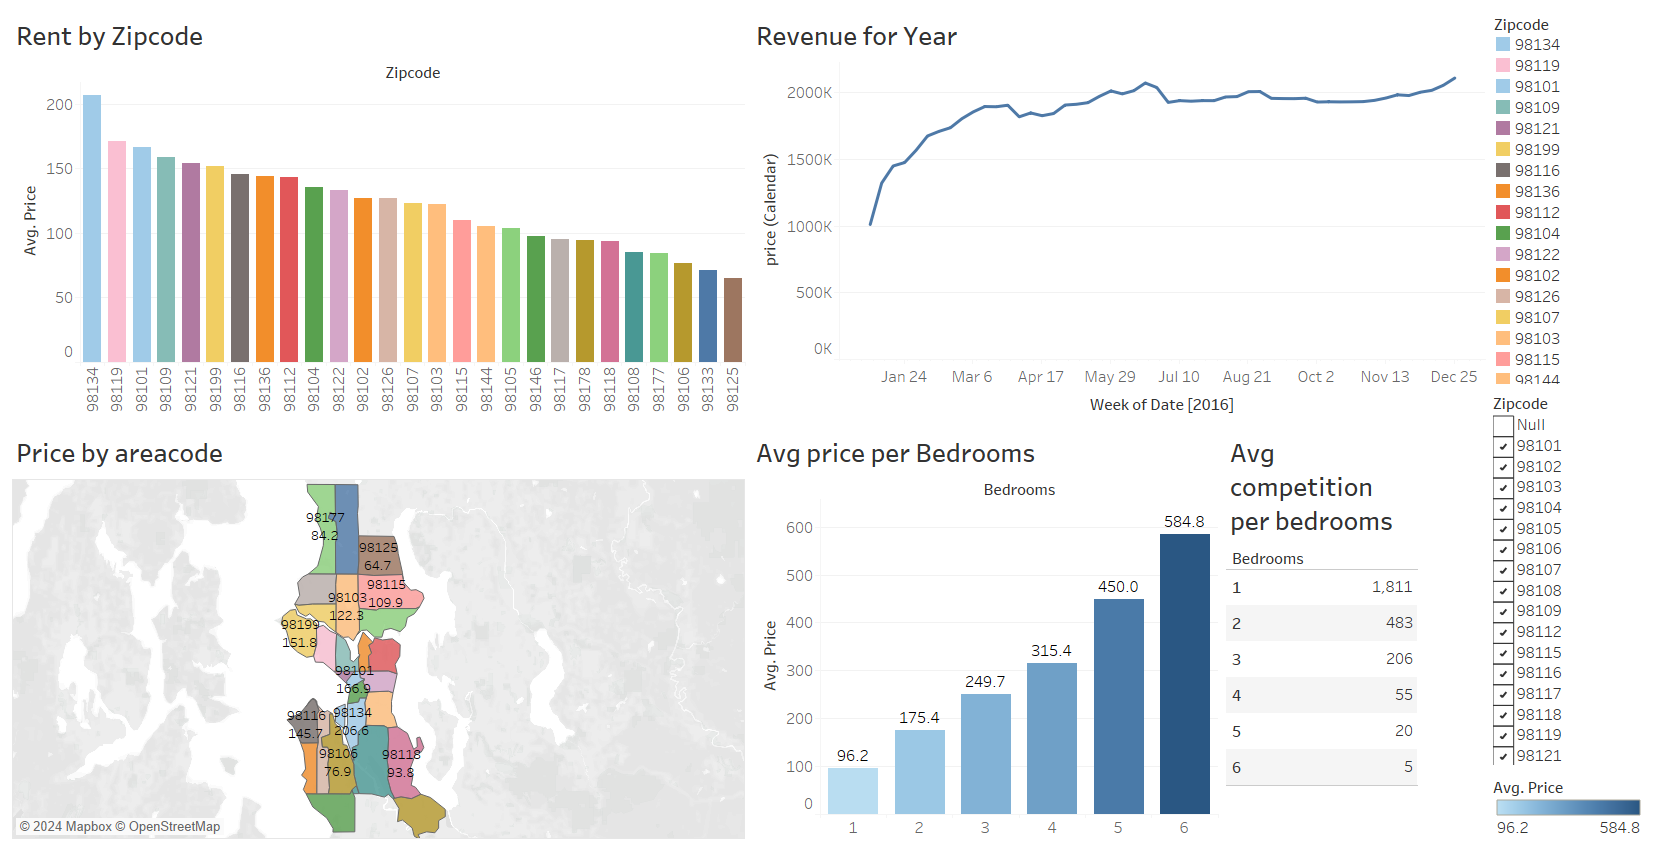

The dashboard page shown, as its layout file describes it:
{"tool":"tableau","page":{"name":"Dashboard 1","canvas":[1000,1000],"units":"permille","ordinal":0},"visuals":[{"type":"worksheet","title":"Sheet 1","mark":"Automatic","rows":["price"],"cols":["zipcode"],"box":[4.8,9.4,446.9,490.6]},{"type":"worksheet","title":"Sheet 3","mark":"Automatic","rows":["price (Calendar)"],"cols":["date"],"box":[451.7,9.4,446.9,490.6]},{"type":"legend","title":"Sheet 1","param":"[federated.1kvxyu91x2b05914kxwrw1vp5j8v].[none:zipcode:ok]","box":[898.6,9.4,96.6,447.7]},{"type":"filter","title":"Sheet 2","param":"[federated.1kvxyu91x2b05914kxwrw1vp5j8v].[none:zipcode:ok]","box":[898.6,457.1,96.6,447.7]},{"type":"worksheet","title":"Sheet 2","mark":"Multipolygon","box":[4.8,500,446.9,490.6]},{"type":"worksheet","title":"Sheet 4","mark":"Automatic","rows":["price"],"cols":["bedrooms"],"box":[451.7,500,285.8,490.6]},{"type":"worksheet","title":"Sheet 5","mark":"Automatic","rows":["bedrooms"],"box":[737.5,500,161.1,490.6]},{"type":"legend","title":"Sheet 4","param":"[federated.1kvxyu91x2b05914kxwrw1vp5j8v].[avg:price:qk]","box":[898.6,904.8,96.6,85.8]}]}

Visuals, with their boxes on the dashboard's canvas, which has no fixed pixel size, in thousandths of its width and height (x1, y1, x2, y2). These are canvas units, not pixel positions in the 1657x851 screenshot, which may show the page scaled, cropped or inside an application window:
"Sheet 1" worksheet: {"x1": 5, "y1": 9, "x2": 452, "y2": 500}
"Sheet 3" worksheet: {"x1": 452, "y1": 9, "x2": 899, "y2": 500}
"Sheet 1" legend: {"x1": 899, "y1": 9, "x2": 995, "y2": 457}
"Sheet 2" filter: {"x1": 899, "y1": 457, "x2": 995, "y2": 905}
"Sheet 2" worksheet (Multipolygon marks): {"x1": 5, "y1": 500, "x2": 452, "y2": 991}
"Sheet 4" worksheet: {"x1": 452, "y1": 500, "x2": 738, "y2": 991}
"Sheet 5" worksheet: {"x1": 738, "y1": 500, "x2": 899, "y2": 991}
"Sheet 4" legend: {"x1": 899, "y1": 905, "x2": 995, "y2": 991}
